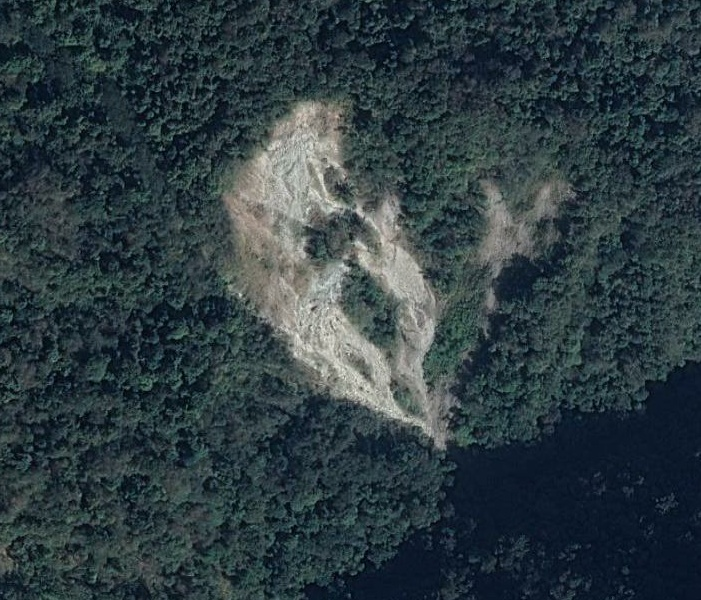slope: (212, 93, 576, 453)
